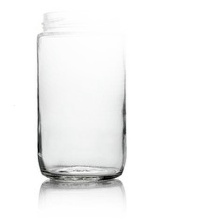glass: (29, 4, 133, 191)
